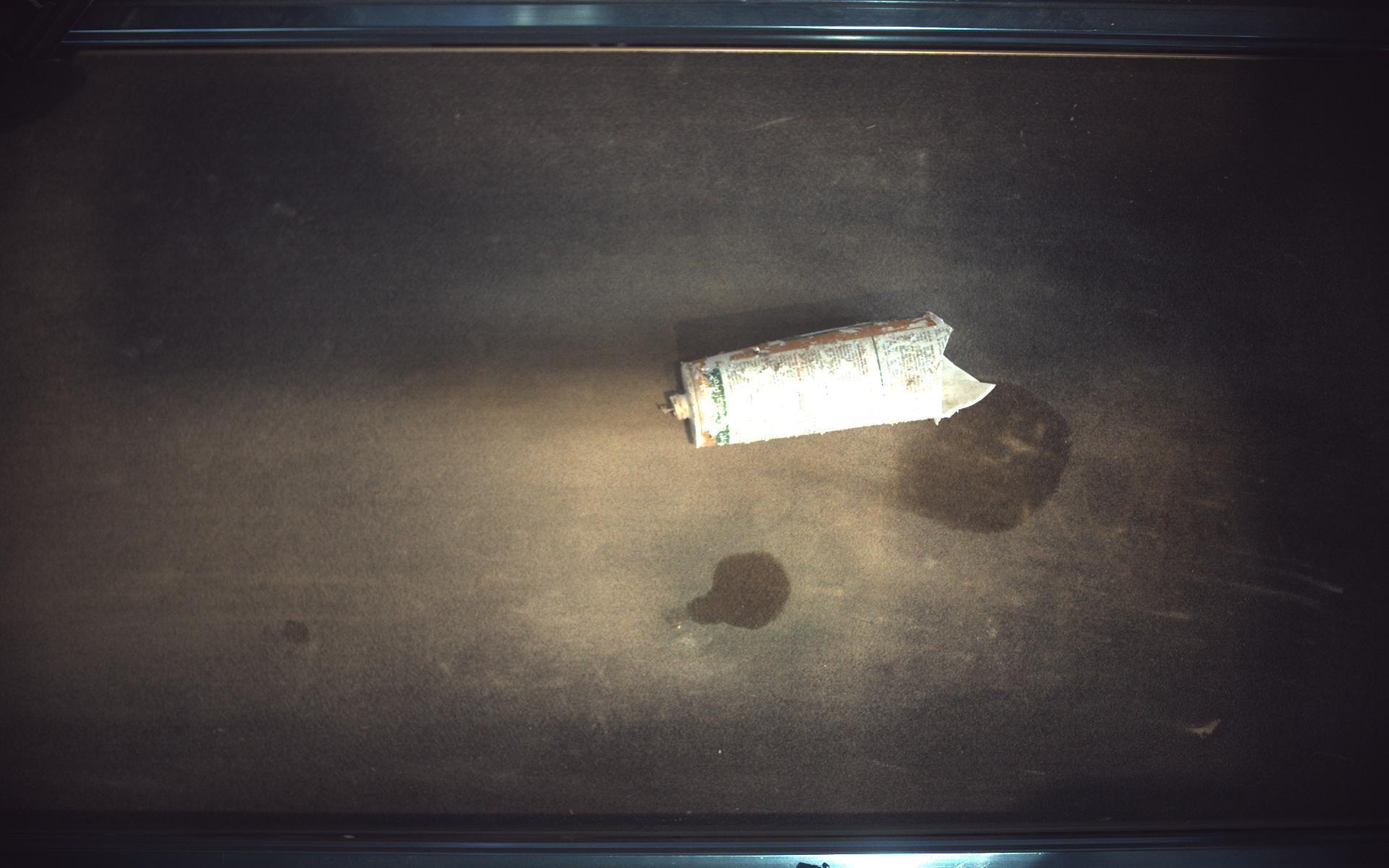plastic: (663, 312, 997, 448)
